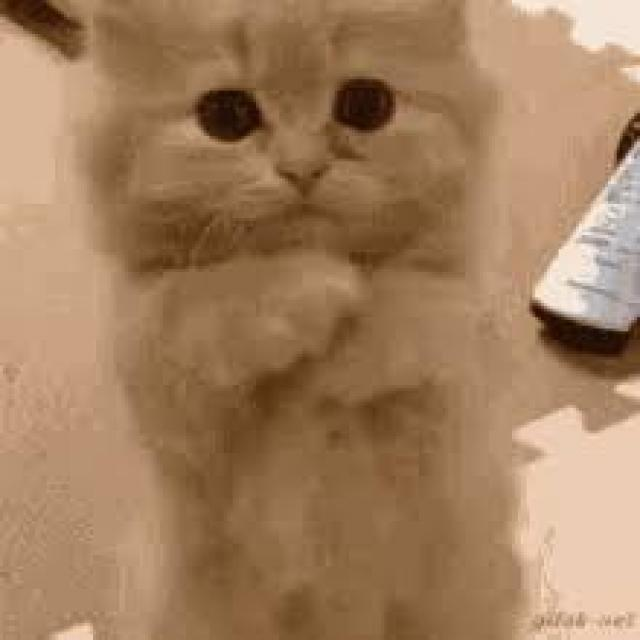Cat: (77, 1, 512, 640)
